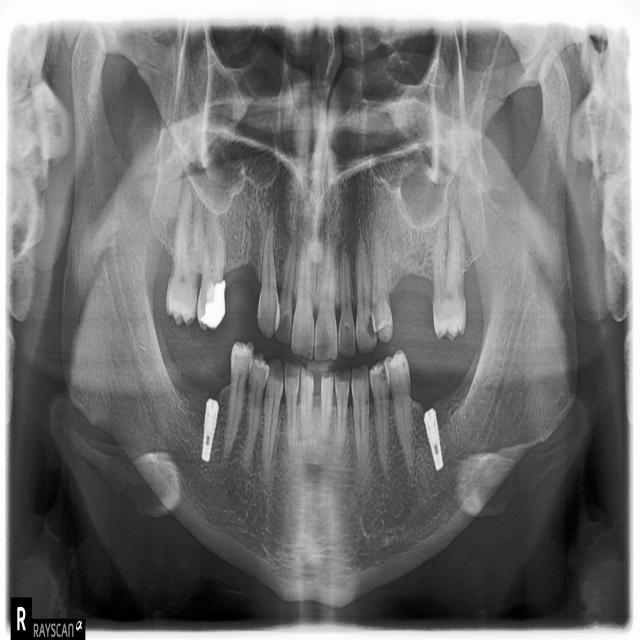mandibula: (61, 19, 577, 601)
